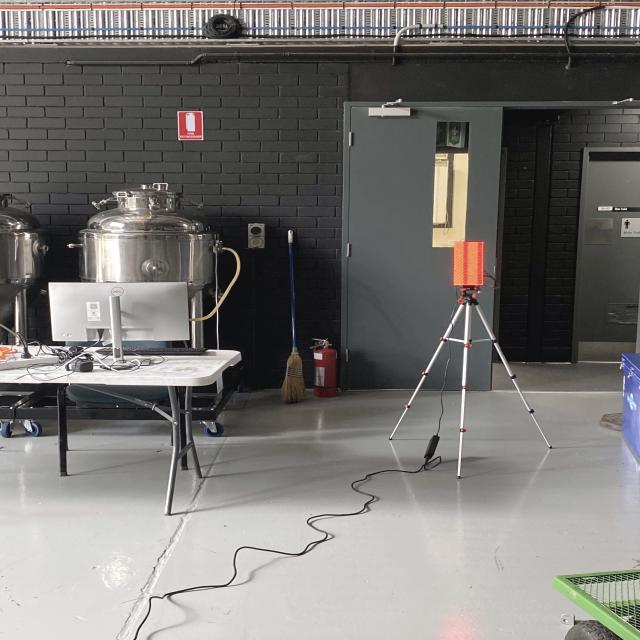matrix: (452, 241, 486, 287)
